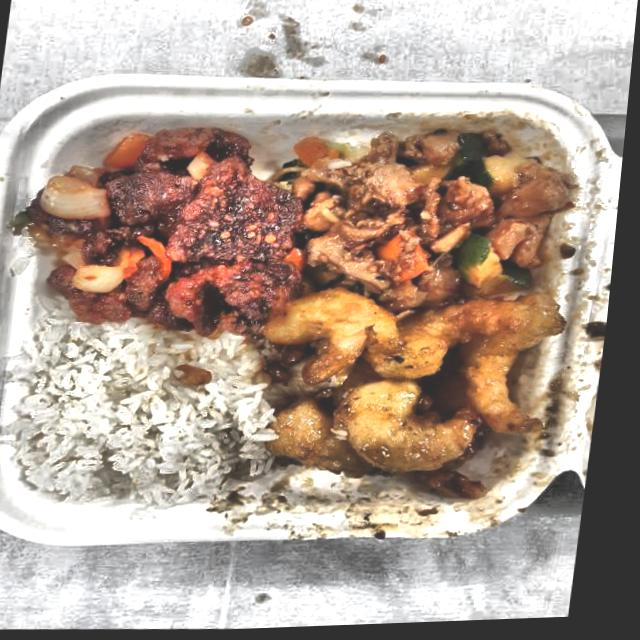Food: (255, 269, 586, 506), (17, 113, 323, 343), (284, 106, 590, 321), (10, 324, 273, 512)
